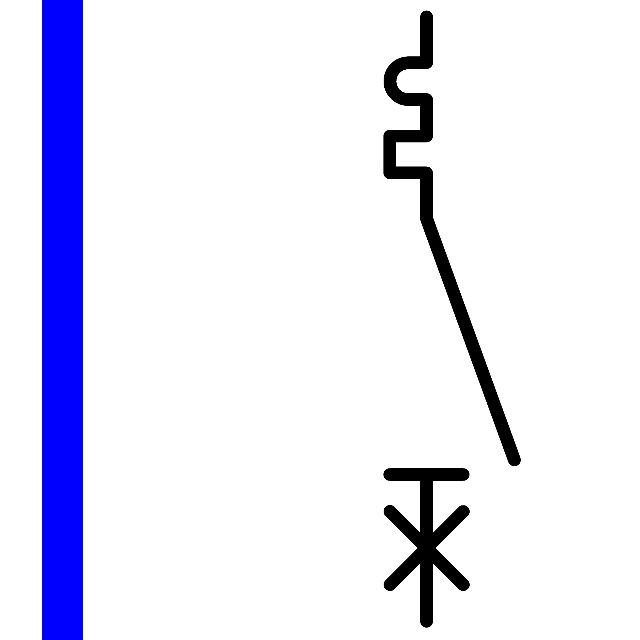interruptor_termomagnetico: (374, 1, 530, 637)
